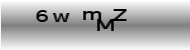6: (35, 8, 49, 23)
M: (96, 18, 114, 31)
Z: (112, 8, 127, 21)
m: (81, 10, 101, 20)
w: (52, 12, 71, 22)
